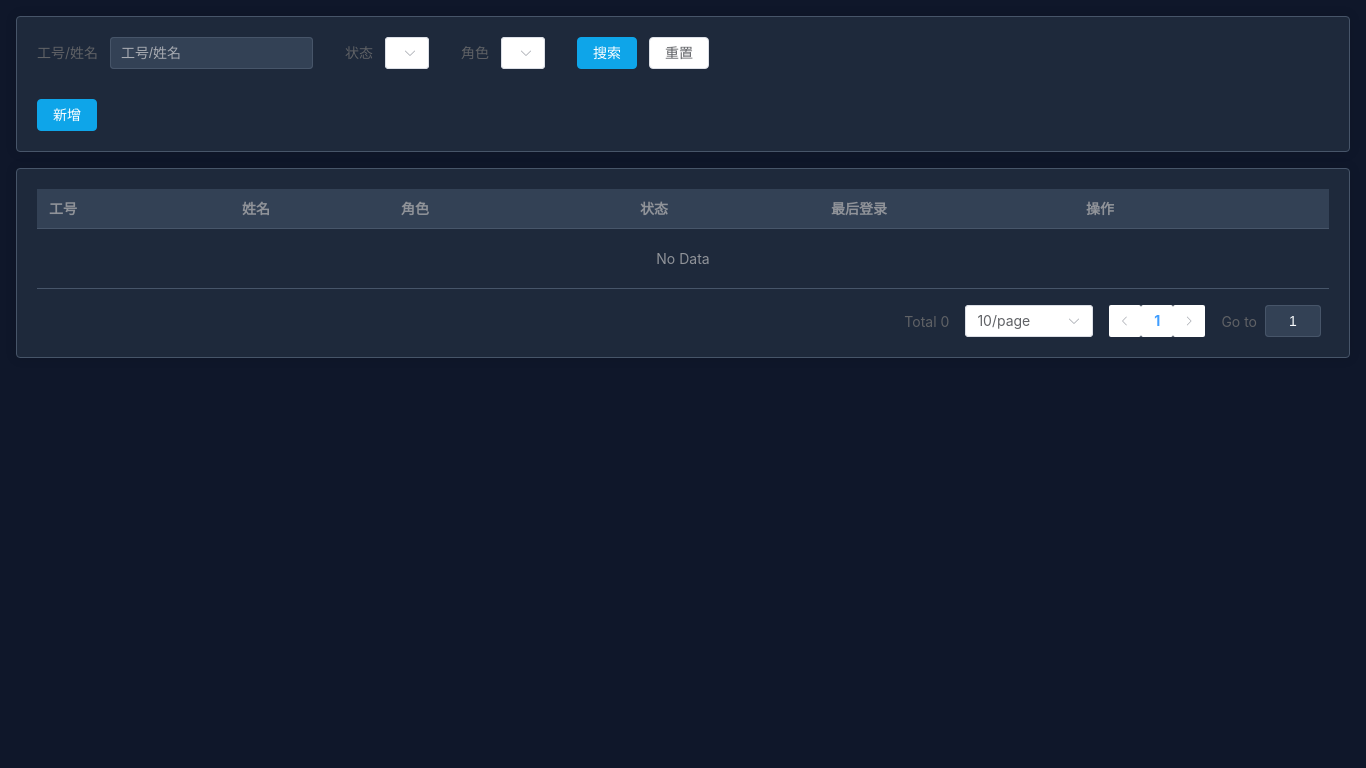
Scenario: UserList.vue › 新增用户弹窗 › 新增弹窗应包含必填字段
Click the button "新增" at coordinates (67, 115), box [37, 99, 97, 131]
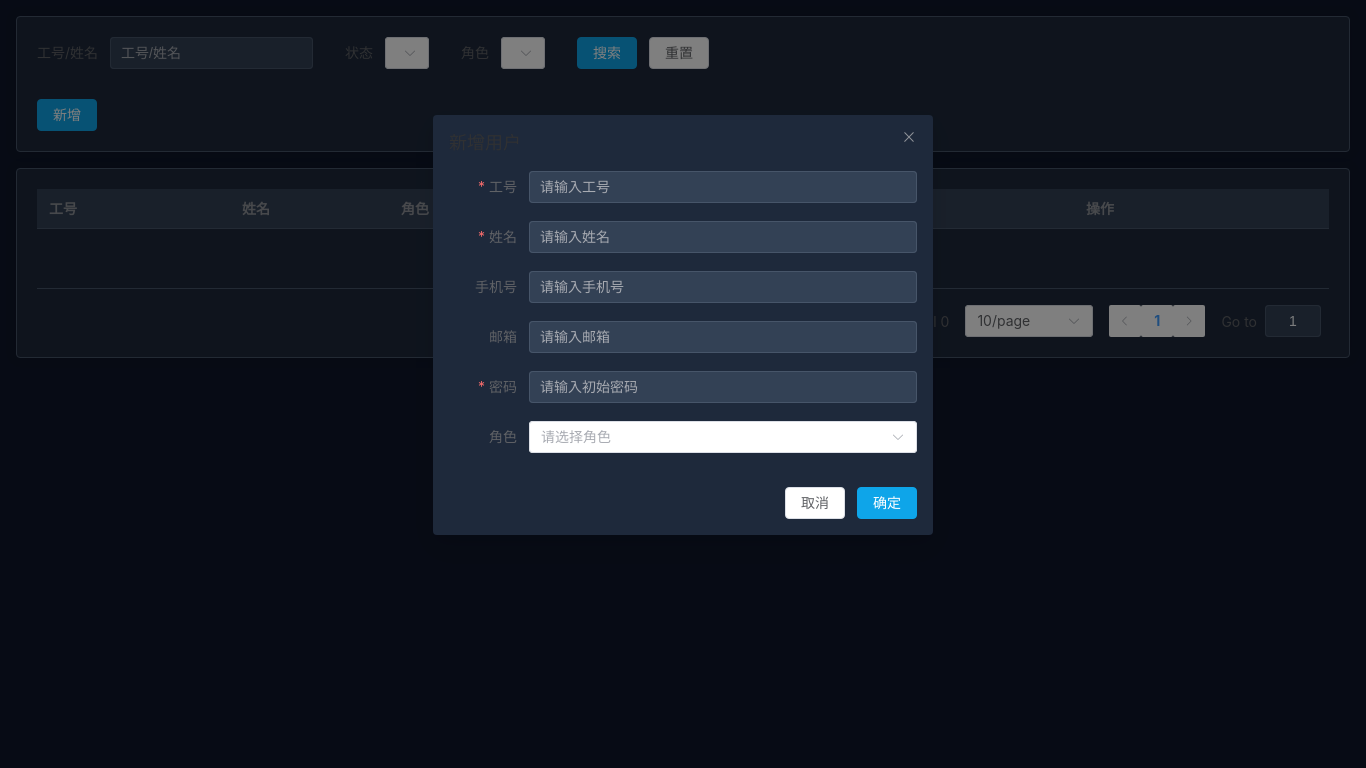
Expected: the text "工号" is shown, [37, 44, 98, 61]
Expected: the text "密码" is shown, [449, 371, 529, 403]
